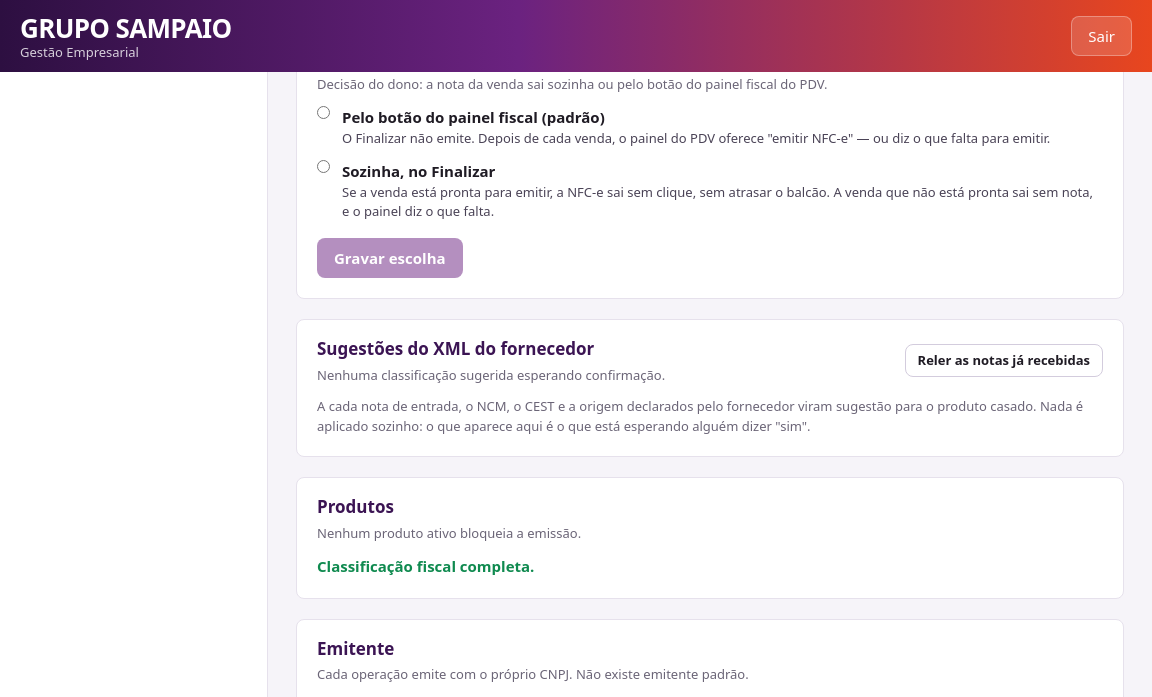
Test: o botão de reler as notas já recebidas › diz quantas linhas ganharam o fator de conversão e quantos pedidos foram recontados
The width and height of the screenshot is (1152, 697).
(page scrolled)
Expected: the text "Nenhuma classificação sugerida esperando confirmação." is shown, x1=317 y1=366 x2=665 y2=385
Click the button "Reler as notas já recebidas": (1004, 361) x1=905 y1=344 x2=1103 y2=377
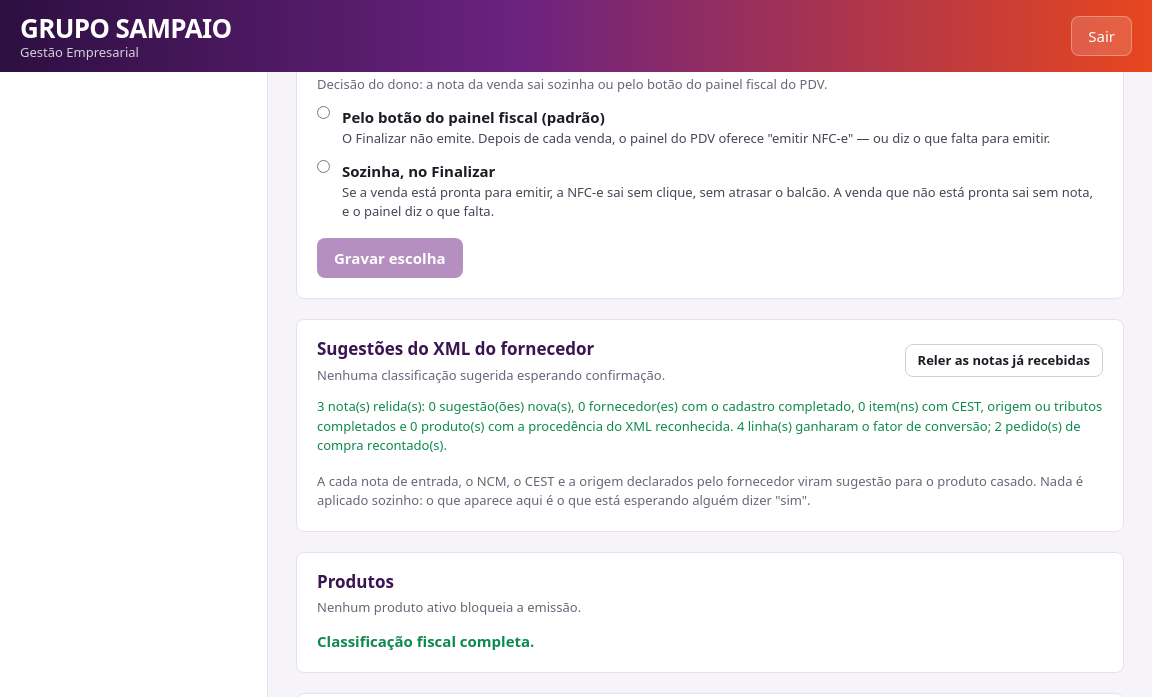
Expected: the text "3 nota(s) relida(s)" shows "4 linha(s) ganharam o fator de conversão", x1=317 y1=397 x2=1102 y2=454
Expected: the text "3 nota(s) relida(s)" shows "2 pedido(s) de compra recontado(s)", x1=317 y1=397 x2=1102 y2=454
